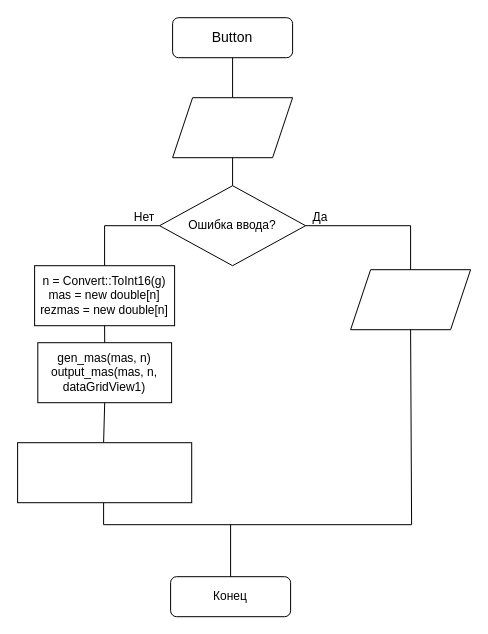
Some shapes in this 488 by 634 pixel diagram are drawn without their labels. Here are the shapes that lost their labels. From the top down, the centre of each, then its label:
(x=232, y=127): Ввод размера массива
(x=410, y=299): Вывод сообщения об ошибке
(x=104, y=472): sz = set_mas(mas, n, rezmas) output_mas(rezmas, sz, dataGridView2)
